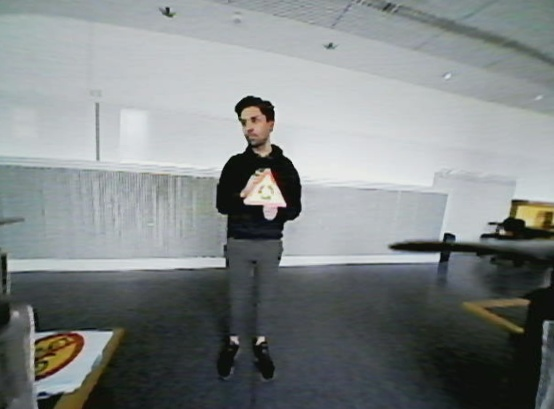roundabout_warning: (239, 163, 291, 211)
